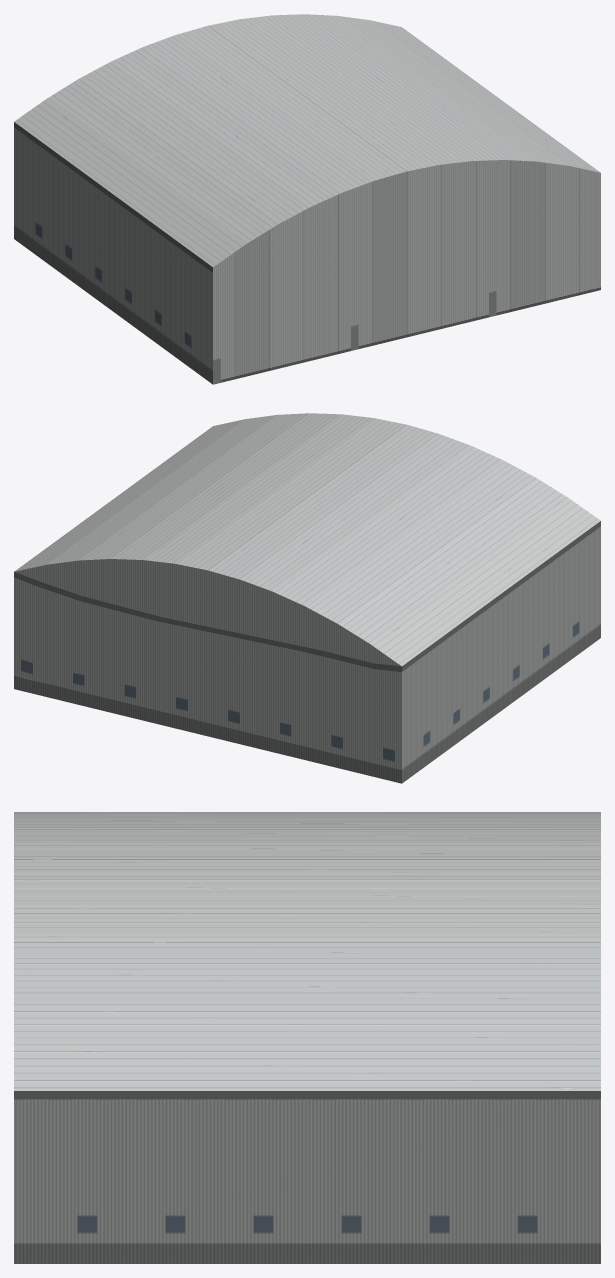
Rendered from khua_hangar_45x40.glb.
3 renders of one model, top to bottom at view 1: azimuth 30°, elevation 25°; view 2: azimuth 150°, elevation 25°; view 3: azimuth 270°, elevation 25°, orthographic. The views are drawn at different scales.
Parts seen in each view (by area): view 1: khua_hangar_45x40_hangar_roof, khua_hangar_45x40_hangar_door, khua_hangar_45x40_hangar_wall; view 2: khua_hangar_45x40_hangar_wall, khua_hangar_45x40_hangar_roof; view 3: khua_hangar_45x40_hangar_roof, khua_hangar_45x40_hangar_wall.
Boxes of the visible parts, box(x1,y1,x2,y2) form: khua_hangar_45x40_hangar_roof: box(14, 14, 600, 267); khua_hangar_45x40_hangar_door: box(213, 160, 600, 384); khua_hangar_45x40_hangar_wall: box(14, 122, 212, 384); khua_hangar_45x40_hangar_wall: box(14, 521, 600, 783); khua_hangar_45x40_hangar_roof: box(14, 413, 600, 666); khua_hangar_45x40_hangar_roof: box(14, 812, 600, 1090); khua_hangar_45x40_hangar_wall: box(14, 1091, 600, 1263).
Size of the model in its own units: 45 by 18.4 by 40.
Materials: 3 (3 with a texture image).
